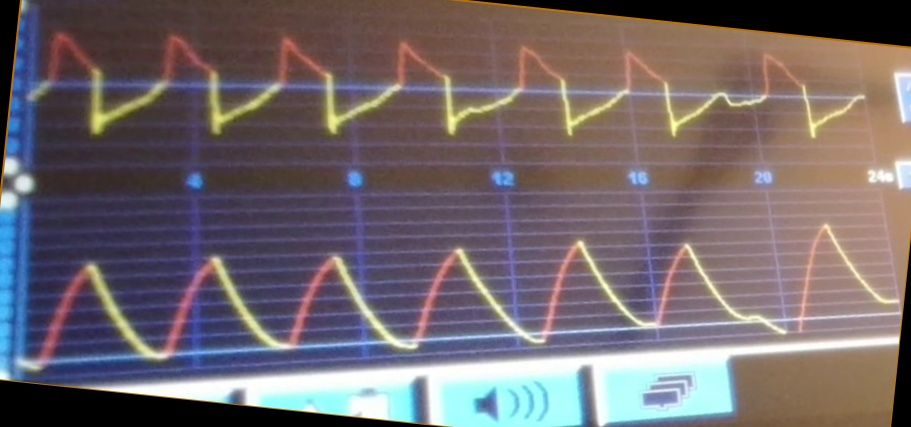Ineffective_effort Flow: (37, 24, 866, 152)
Ineffective_effort Volume: (22, 218, 895, 360)
